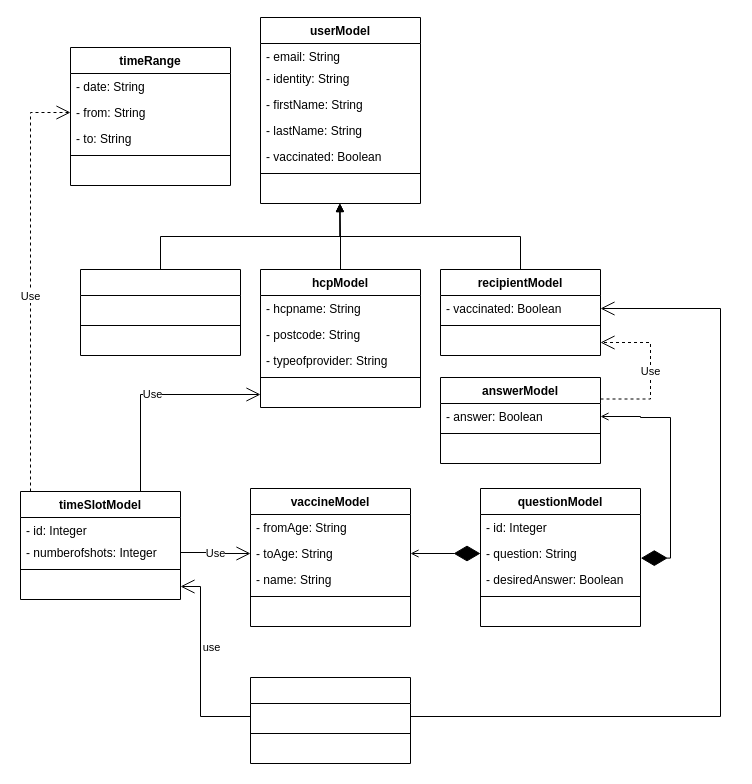
Image size: 752x784. Some labels were removed from this diagram. The centre of each missing label's shape, as x and y in pixels:
"adminModel" belongs at point (160, 312).
"bookingModel" belongs at point (330, 720).
